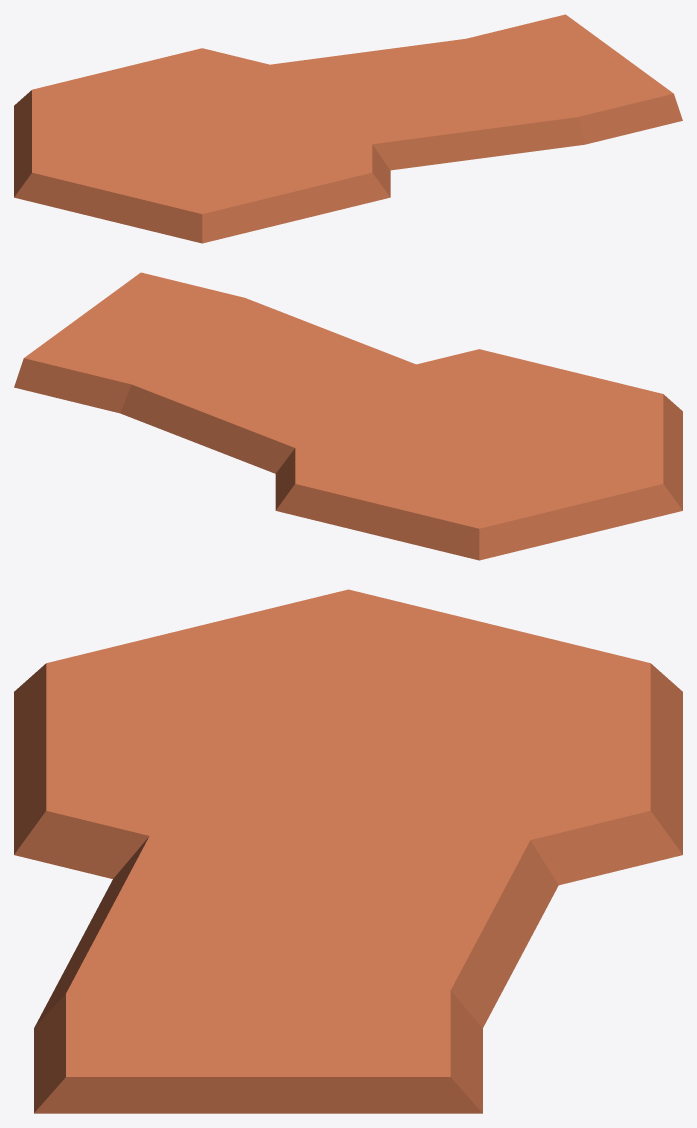
File: path_start.dae
The picture shows the model from 3 angles, top to bottom: view 1: azimuth 30°, elevation 25°; view 2: azimuth 150°, elevation 25°; view 3: azimuth 270°, elevation 25°; orthographic projection. The views are drawn at different scales.
Parts seen in each view (by area): view 1: path_start; view 2: path_start; view 3: path_start.
Boxes of the visible parts, x1,y1,x2,y2 form: path_start: [14, 14, 682, 243]; path_start: [14, 272, 682, 560]; path_start: [14, 589, 682, 1113].
Size of the model in its own units: 0.74 by 0.025 by 0.4157.
